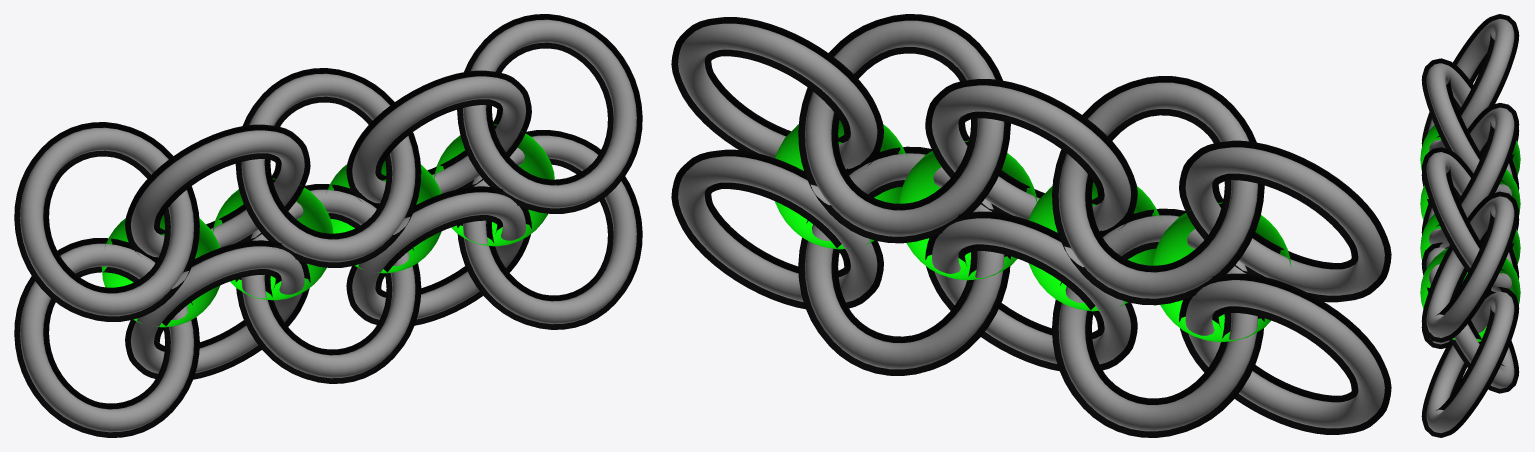
Rendered from magus_weave_step_03.glb.
3 renders of one model, left to right at view 1: azimuth 30°, elevation 25°; view 2: azimuth 150°, elevation 25°; view 3: azimuth 270°, elevation 25°, orthographic. The views are drawn at different scales.
Parts seen in each view (by area): view 1: Torus.721, Torus.725, Torus.723, Torus.001, Torus.005, Torus.003, Torus.722, Torus.724, Torus.002, Torus.004, Sphere, Sphere.002 (+2 smaller); view 2: Torus.724, Torus.722, Torus.001, Torus.725, Torus.721, Torus.005, Torus.004, Torus.002, Torus.723, Torus.003, Sphere.003, Sphere.001 (+2 smaller); view 3: Torus.721, Torus.005, Torus.725, Torus.722, Torus.723, Torus.724, Torus.004, Sphere.002, Sphere.001, Sphere.003, Sphere, Torus.003.
Boxes of the visible parts, box(x1,y1,x2,y2) form: Torus.721: box(457, 14, 642, 213); Torus.725: box(14, 122, 199, 321); Torus.723: box(235, 68, 421, 267); Torus.001: box(14, 238, 199, 437); Torus.005: box(457, 130, 642, 329); Torus.003: box(235, 184, 421, 383); Torus.722: box(346, 70, 531, 208); Torus.724: box(125, 124, 310, 262); Torus.002: box(125, 240, 310, 379); Torus.004: box(346, 186, 531, 325); Sphere: box(212, 178, 333, 300); Sphere.002: box(434, 124, 555, 246); Torus.724: box(1052, 76, 1264, 305); Torus.722: box(798, 14, 1010, 243); Torus.001: box(1179, 273, 1391, 434); Torus.725: box(1179, 140, 1391, 302); Torus.721: box(671, 17, 883, 175); Torus.005: box(671, 149, 883, 309); Torus.004: box(798, 146, 1010, 375); Torus.002: box(1052, 208, 1264, 437); Torus.723: box(925, 79, 1137, 236); Torus.003: box(925, 211, 1137, 371); Sphere.003: box(1152, 202, 1291, 342); Sphere.001: box(898, 140, 1037, 280); Torus.721: box(1421, 191, 1519, 342); Torus.005: box(1421, 287, 1519, 437); Torus.725: box(1421, 14, 1519, 151); Torus.722: box(1421, 147, 1519, 295); Torus.723: box(1421, 103, 1519, 247); Torus.724: box(1421, 58, 1519, 195); Torus.004: box(1421, 242, 1519, 393); Sphere.002: box(1420, 247, 1520, 341); Sphere.001: box(1420, 213, 1520, 264); Sphere.003: box(1420, 125, 1520, 175); Sphere: box(1420, 169, 1520, 219); Torus.003: box(1421, 218, 1519, 348).
Bounding box in the file's own units: 12.28 × 5.29 × 2.1.
